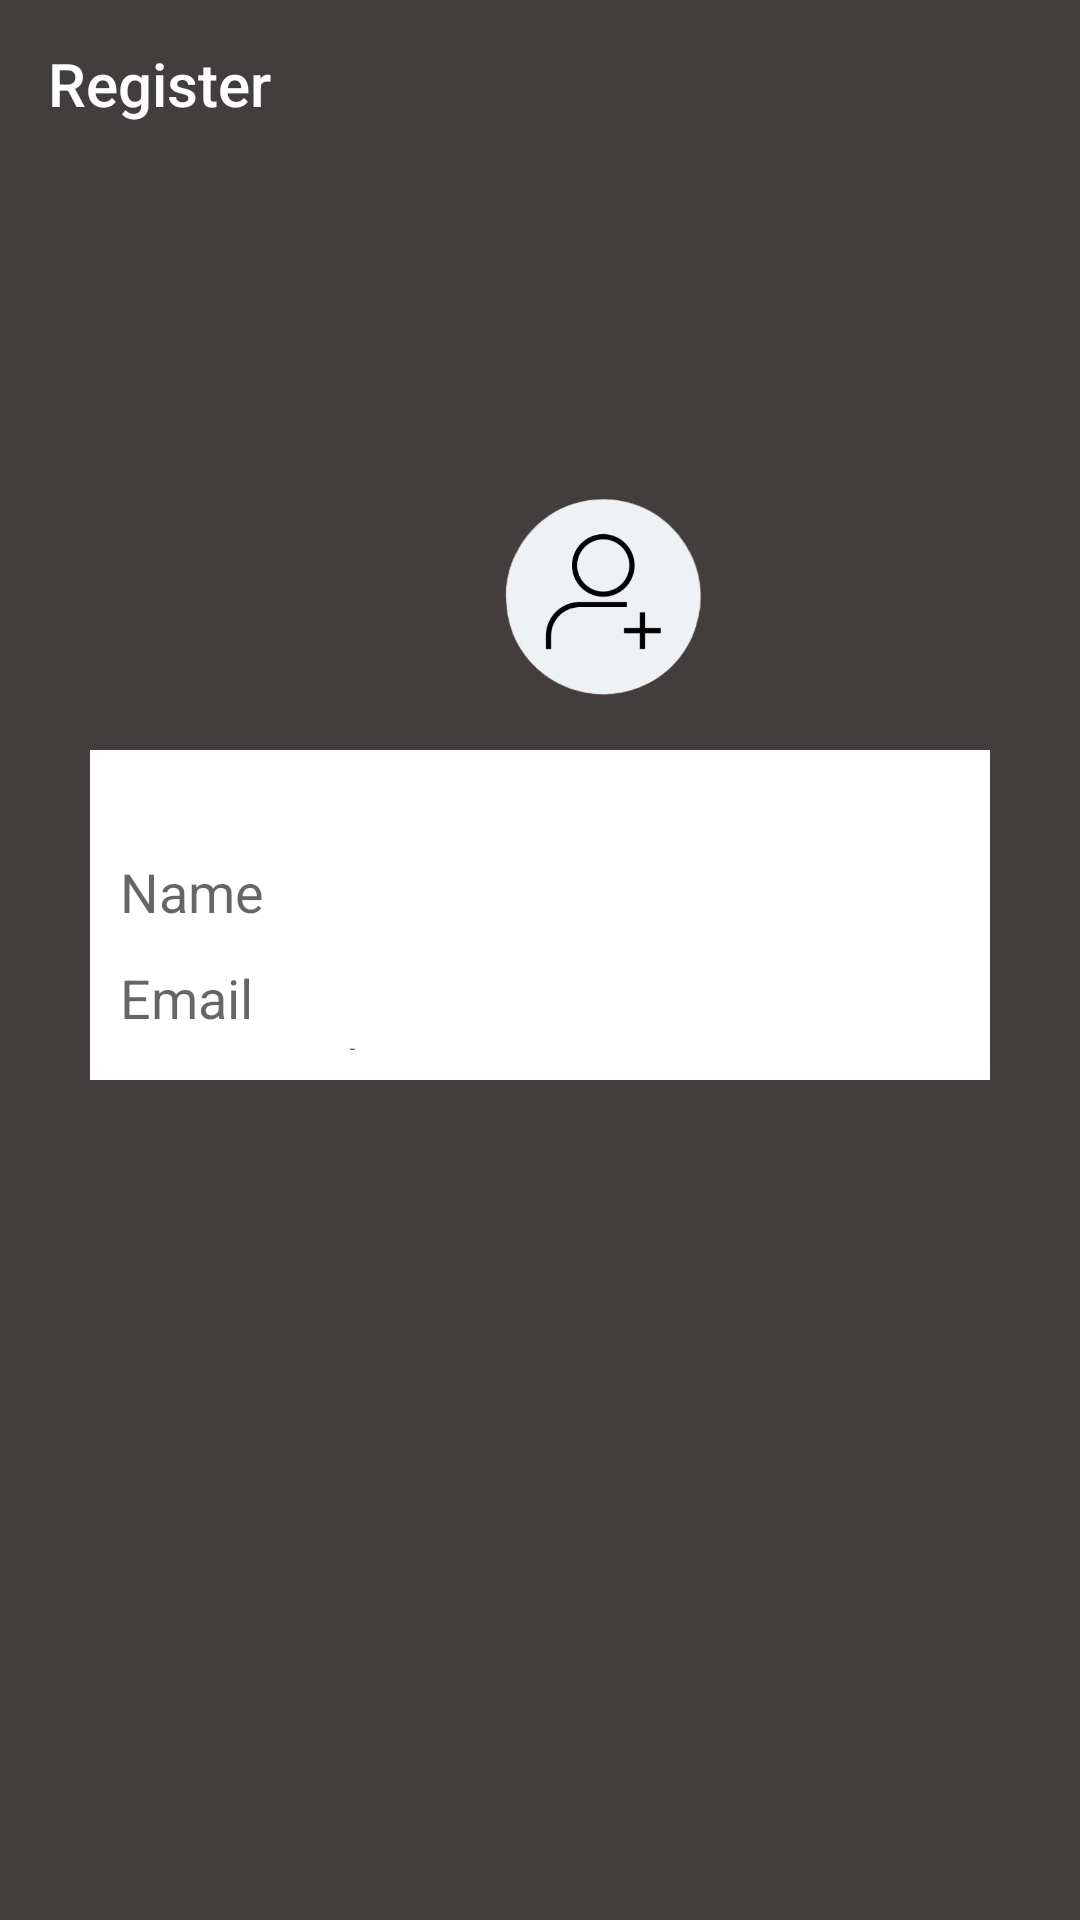

Named icons in this screenshot (1080x1920) and their centers, (x=x, y=y):
add user: (x=603, y=597)
